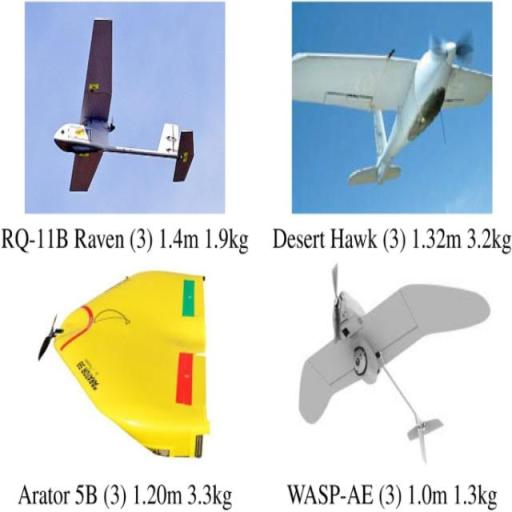uav: (36, 12, 210, 202)
